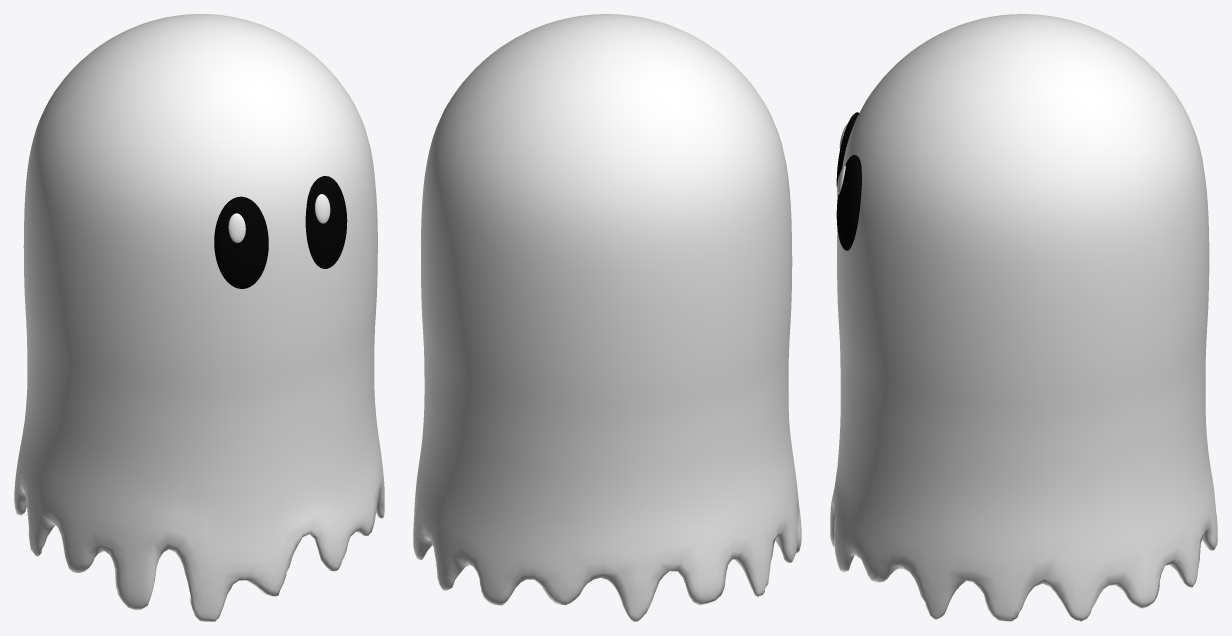
Rendered from ghost_game_ready(1).glb.
3 renders of one model, left to right at view 1: azimuth 30°, elevation 25°; view 2: azimuth 150°, elevation 25°; view 3: azimuth 270°, elevation 25°, orthographic. The views are drawn at different scales.
Parts seen in each view (by area): view 1: Sphere001; view 2: Sphere001; view 3: Sphere001.
Part boxes in pixels (box(x1,y1,x2,y2)): Sphere001: box(14, 14, 384, 621); Sphere001: box(413, 14, 801, 621); Sphere001: box(830, 14, 1217, 621).
Size of the model in its own units: 0.8276 by 1.28 by 0.8279.
1 material, 1 textured.
